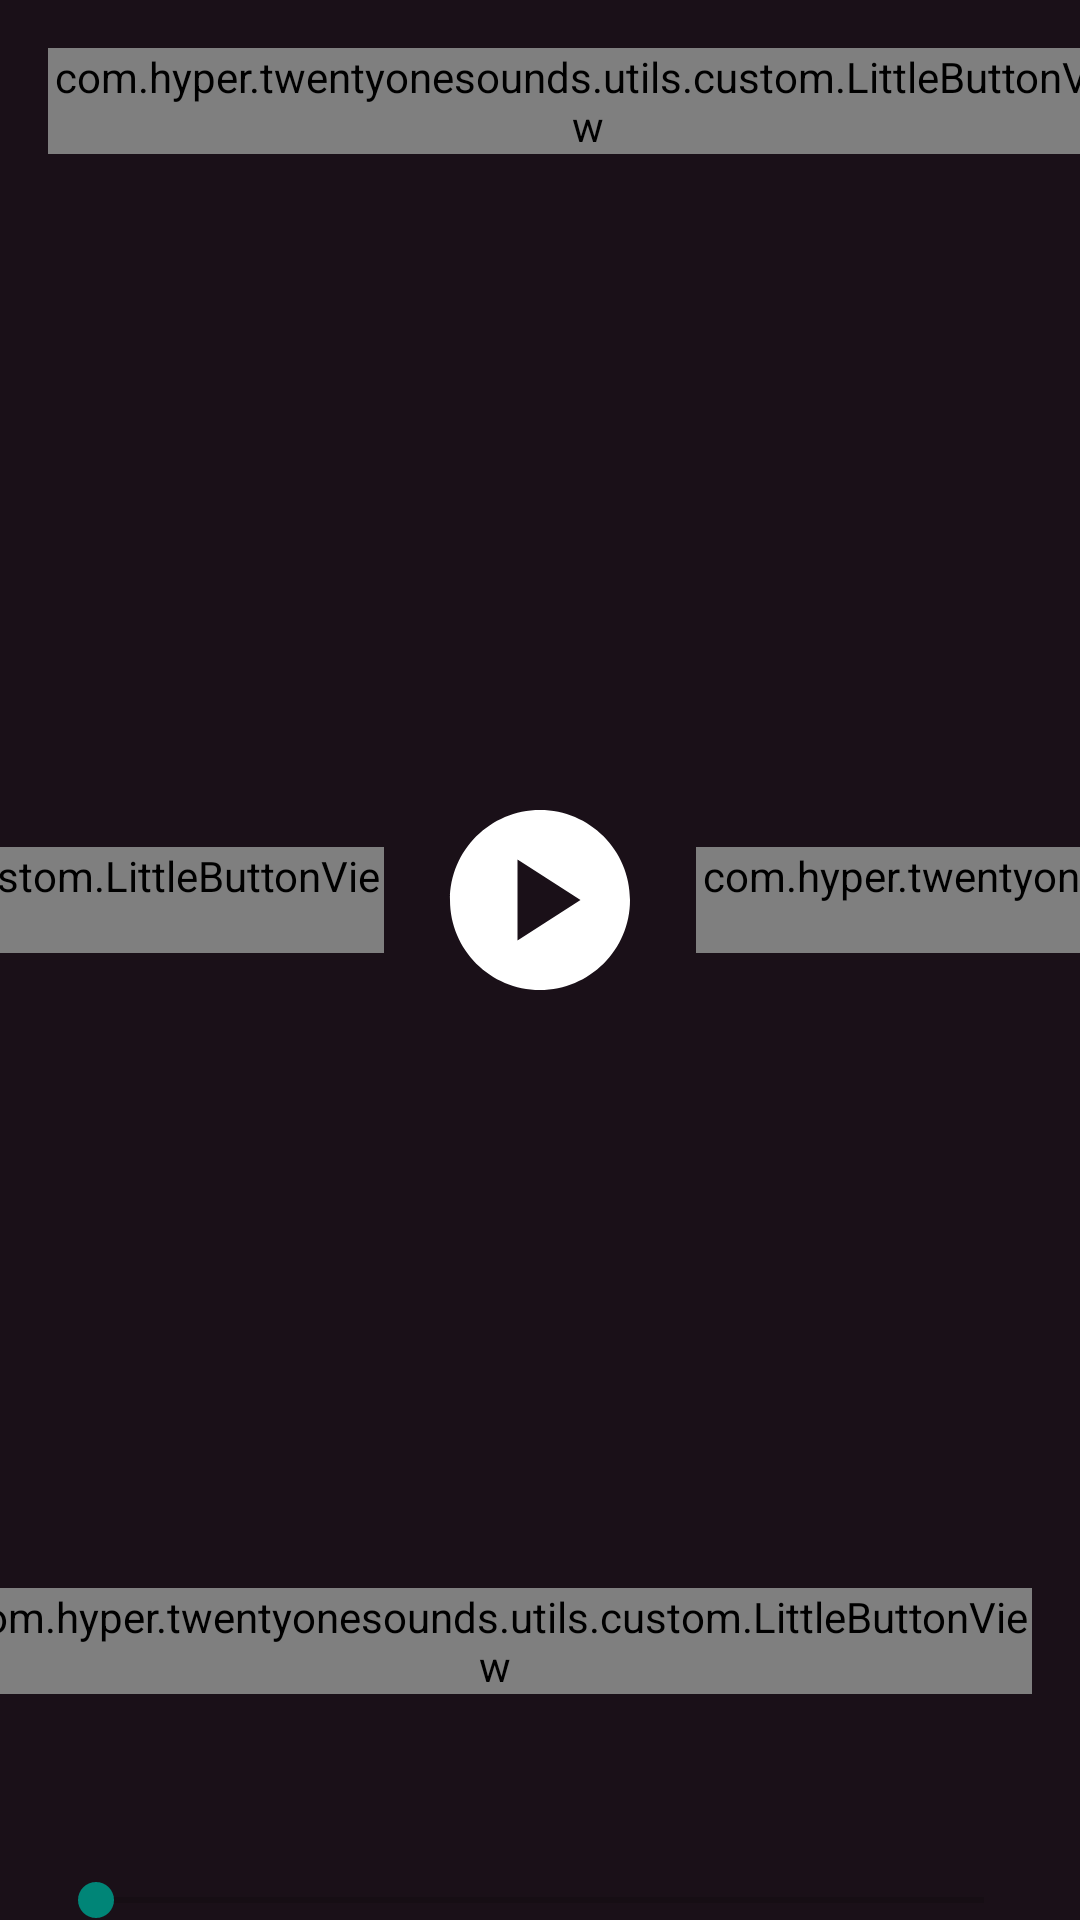

Named icons in this screenshot (1080 x 1920) and their centers, (x=x, y=y):
play: (x=539, y=900)
